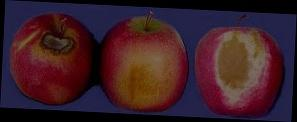red apple: (99, 14, 189, 112)
rotten apple: (191, 20, 287, 117), (9, 11, 95, 104)
